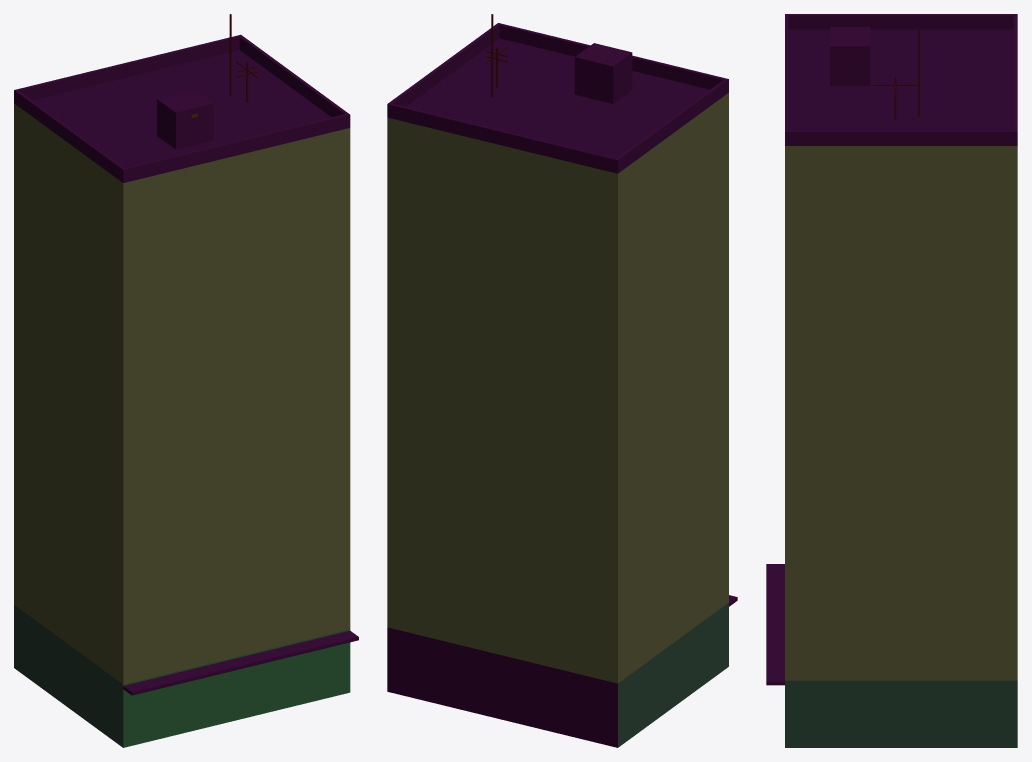
File: commercial_c.glb
3 views of the same model, side by side, from view 1: azimuth 30°, elevation 25°; view 2: azimuth 150°, elevation 25°; view 3: azimuth 270°, elevation 25° (orthographic). The views are drawn at different scales.
Visible parts, largest first — view 1: commercial_c; view 2: commercial_c; view 3: commercial_c.
Part boxes in pixels (x1,y1,x2,y2): commercial_c: (14, 14, 358, 747); commercial_c: (387, 14, 737, 747); commercial_c: (766, 14, 1017, 747).
Bounding box in the file's own units: 18 × 48.96 × 16.2.
